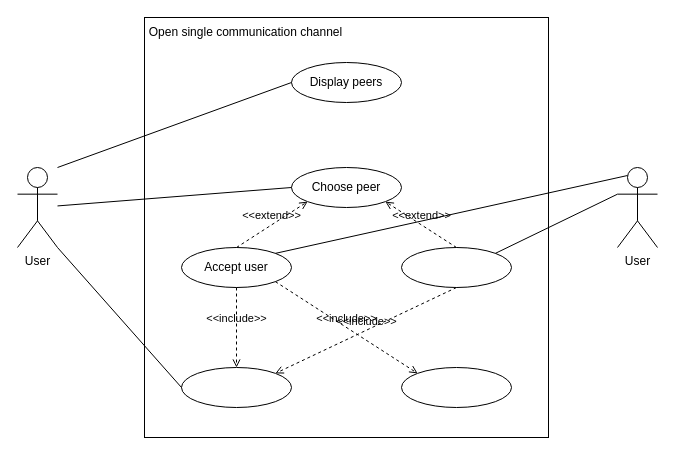
Some shapes in this 675 by 455 pixel diagram are drawn without their labels. The shapes that lost their labels are listed below. From the top down, each one's centre as x and y in pixels, then its label:
point 456,267: Decline user
point 236,387: Notify user
point 456,387: Establish secure channel
